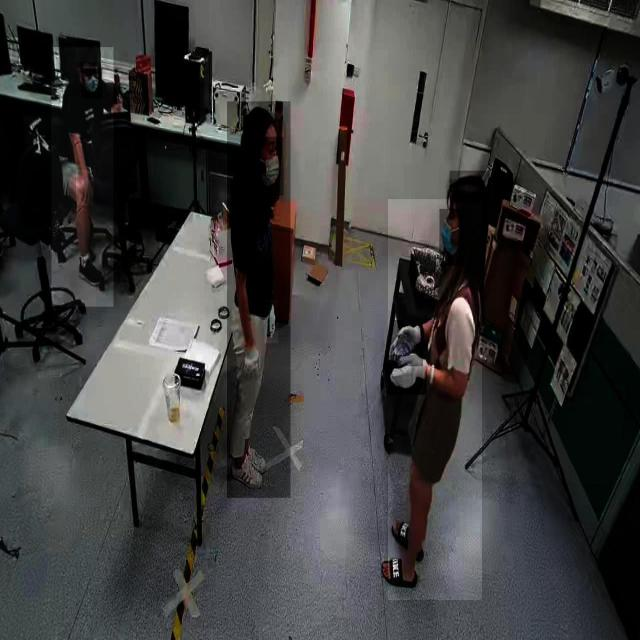face_mask: (258, 137, 284, 195), (440, 209, 464, 266), (81, 68, 103, 100)
hand_glove: (388, 354, 426, 394), (391, 320, 423, 366), (243, 341, 263, 391), (265, 300, 279, 344)
hand_noglove: (76, 170, 94, 206)
head_nohelmet: (240, 102, 278, 137), (450, 170, 490, 203), (76, 44, 100, 62)
person: (388, 199, 482, 601), (227, 101, 291, 499), (52, 47, 114, 308)
shoes: (230, 455, 264, 493), (239, 442, 269, 474)
